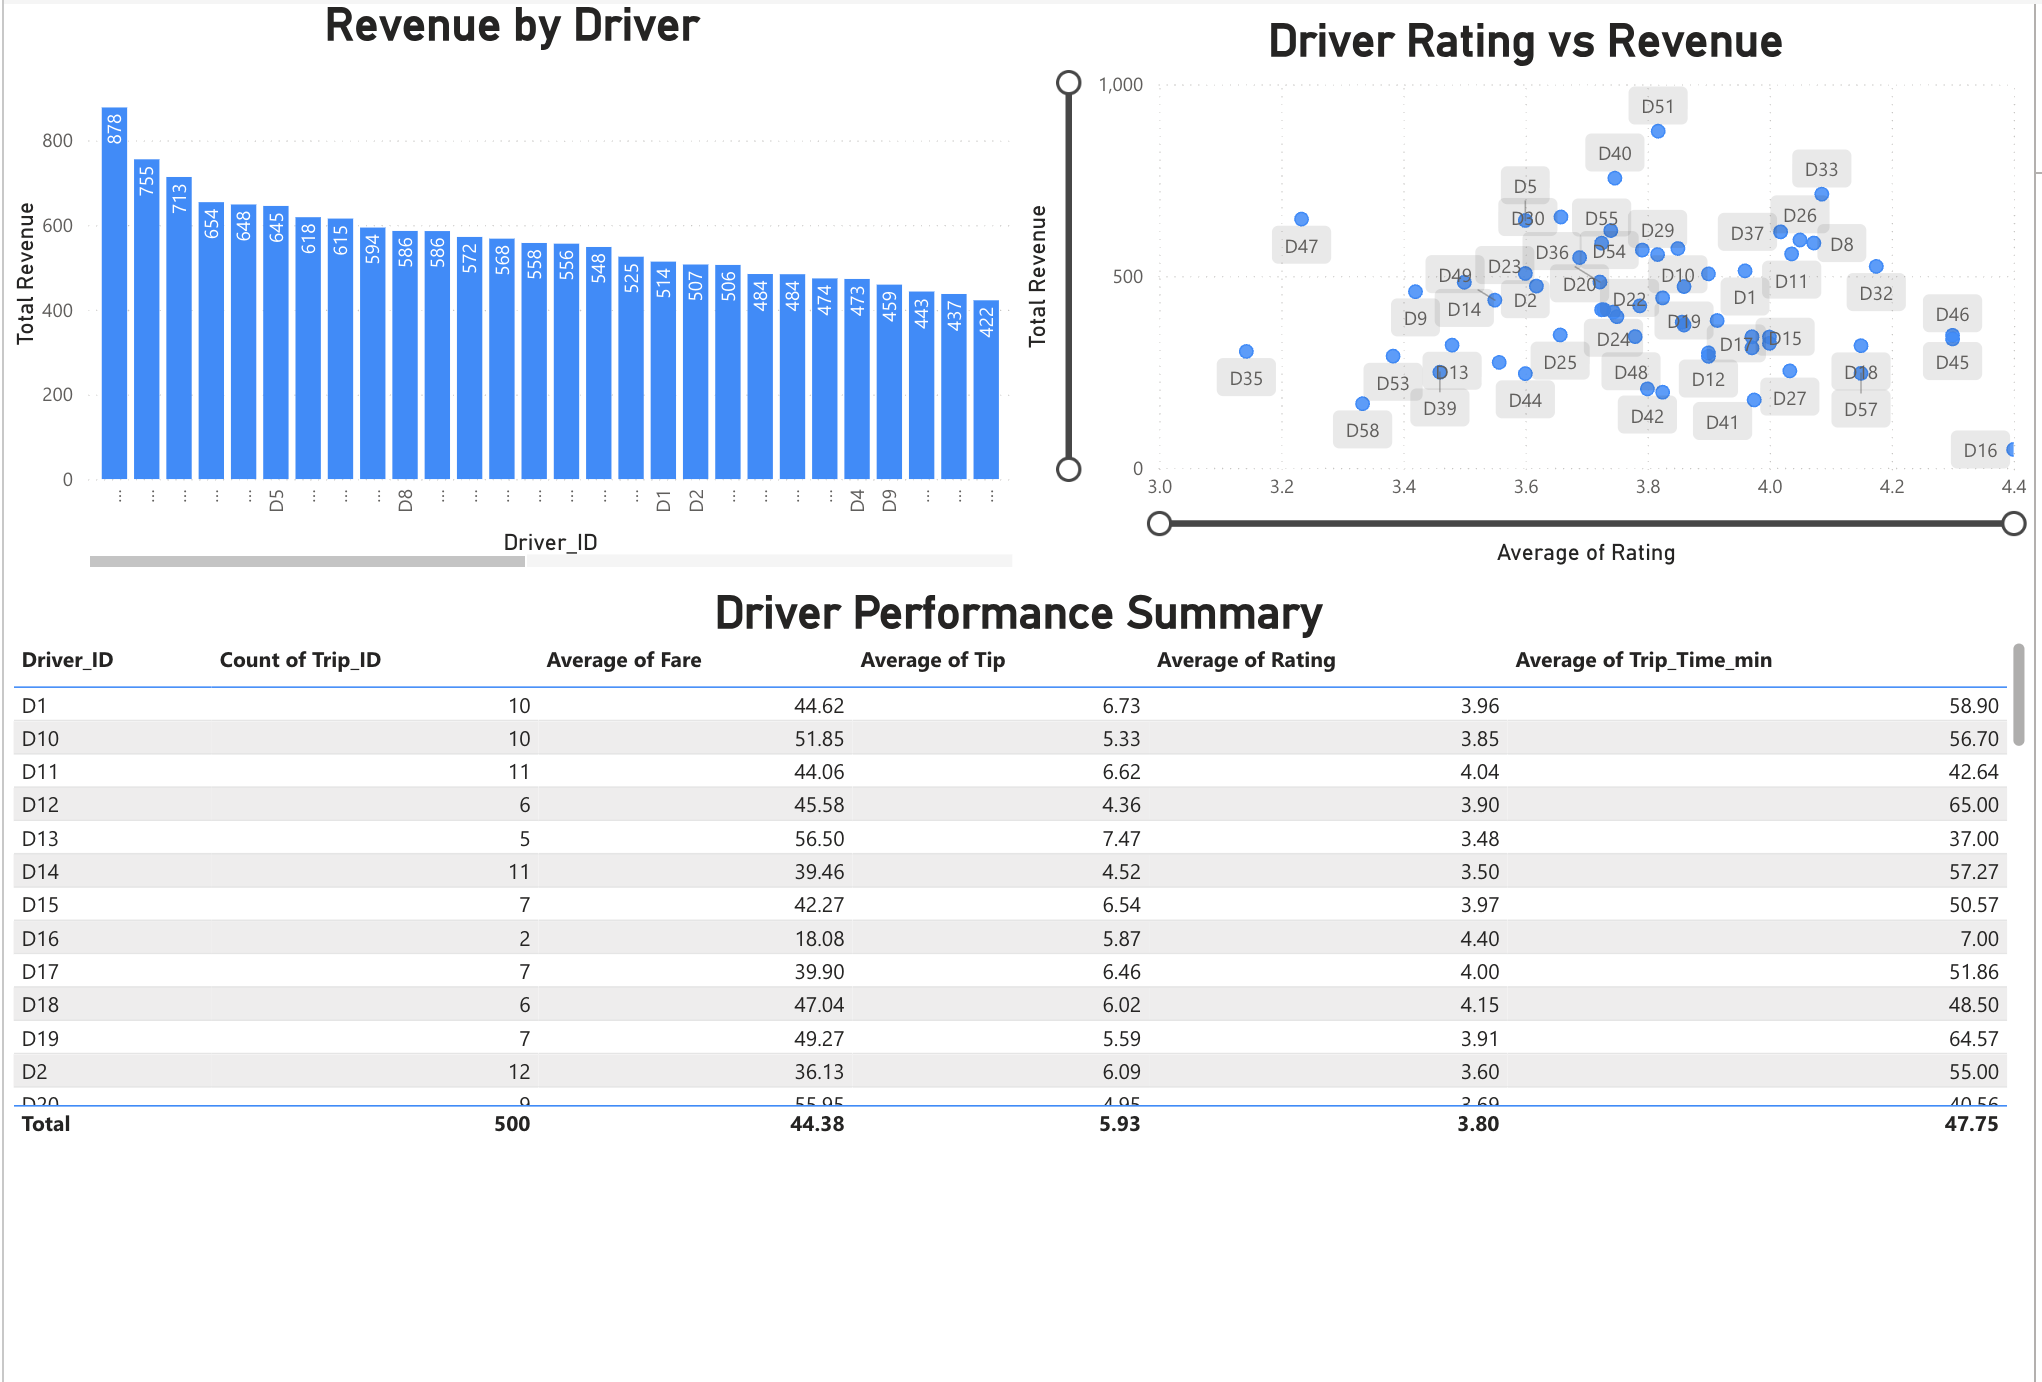

What the dashboard file says about the page in this screenshot:
{"tool":"powerbi","page":{"name":"Driver Performance","canvas":[1280,720],"ordinal":2},"visuals":[{"type":"clusteredColumnChart","title":"Revenue by Driver","fields":{"Category":["RideSharing_Dataset.Driver_ID"],"Y":["RideSharing_Dataset.Total Revenue"]},"box":[0,0,640.8,360.1],"z":0},{"type":"scatterChart","title":"Driver Rating vs Revenue","fields":{"X":["Avg(RideSharing_Dataset.Rating)"],"Y":["RideSharing_Dataset.Total Revenue"],"Category":["RideSharing_Dataset.Driver_ID"]},"box":[639.2,10.7,640.8,349.4],"z":1},{"type":"tableEx","title":"Driver Performance Summary","fields":{"Values":["RideSharing_Dataset.Driver_ID","RideSharing_Dataset.Trip_ID","Avg(RideSharing_Dataset.Fare)","Avg(RideSharing_Dataset.Tip)","Avg(RideSharing_Dataset.Rating)","Avg(RideSharing_Dataset.Trip_Time_min)"]},"box":[0,370.7,1280,349.4],"z":2}]}

Visuals, with their boxes on the page's 1280x720 design canvas (x1, y1, x2, y2). These are canvas units, not pixel positions in the 2042x1382 screenshot, which may show the page scaled, cropped or inside an application window:
"Revenue by Driver" clusteredColumnChart: (0, 0, 641, 360)
"Driver Rating vs Revenue" scatterChart: (639, 11, 1280, 360)
"Driver Performance Summary" tableEx: (0, 371, 1280, 720)
